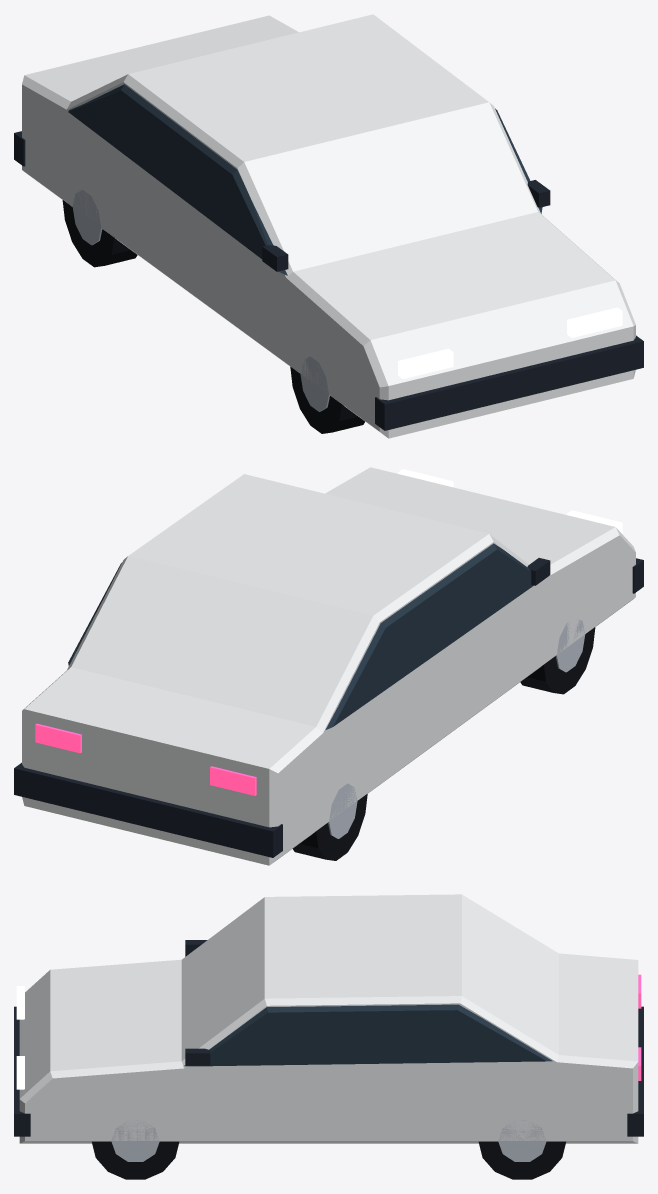
Rendered from car_sedan_white.glb.
3 views of the same model, one above another, from view 1: azimuth 30°, elevation 25°; view 2: azimuth 150°, elevation 25°; view 3: azimuth 270°, elevation 25° (orthographic). The views are drawn at different scales.
Visible parts, largest first — view 1: body; view 2: body; view 3: body.
Boxes of the visible parts, left/top/right/bottom form: body: left=14, top=14, right=643, bottom=438; body: left=14, top=467, right=643, bottom=865; body: left=14, top=894, right=643, bottom=1179.
Size of the model in its own units: 1.94 by 1.45 by 4.56.
